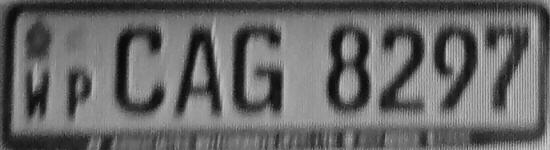2: (376, 14, 430, 118)
7: (480, 18, 532, 118)
8: (318, 16, 375, 116)
9: (431, 16, 481, 116)
A: (170, 18, 228, 121)
C: (106, 16, 169, 120)
G: (227, 18, 288, 123)
P: (62, 66, 97, 126)
W: (20, 64, 55, 124)
